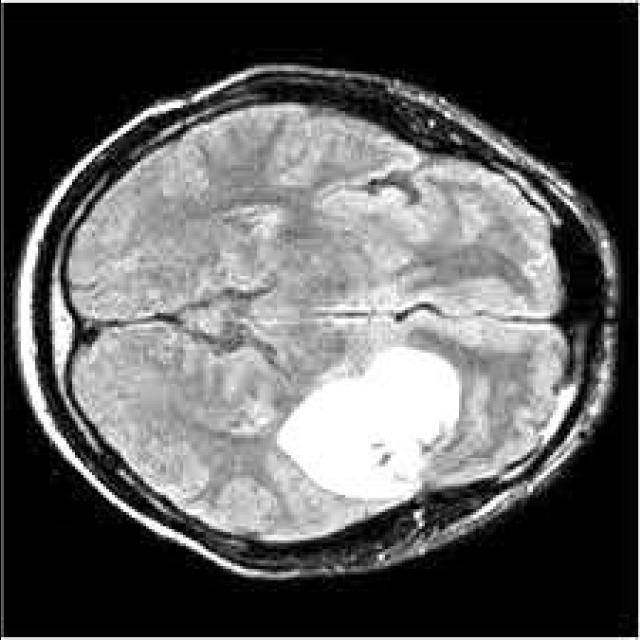tumor: (279, 344, 461, 501)
